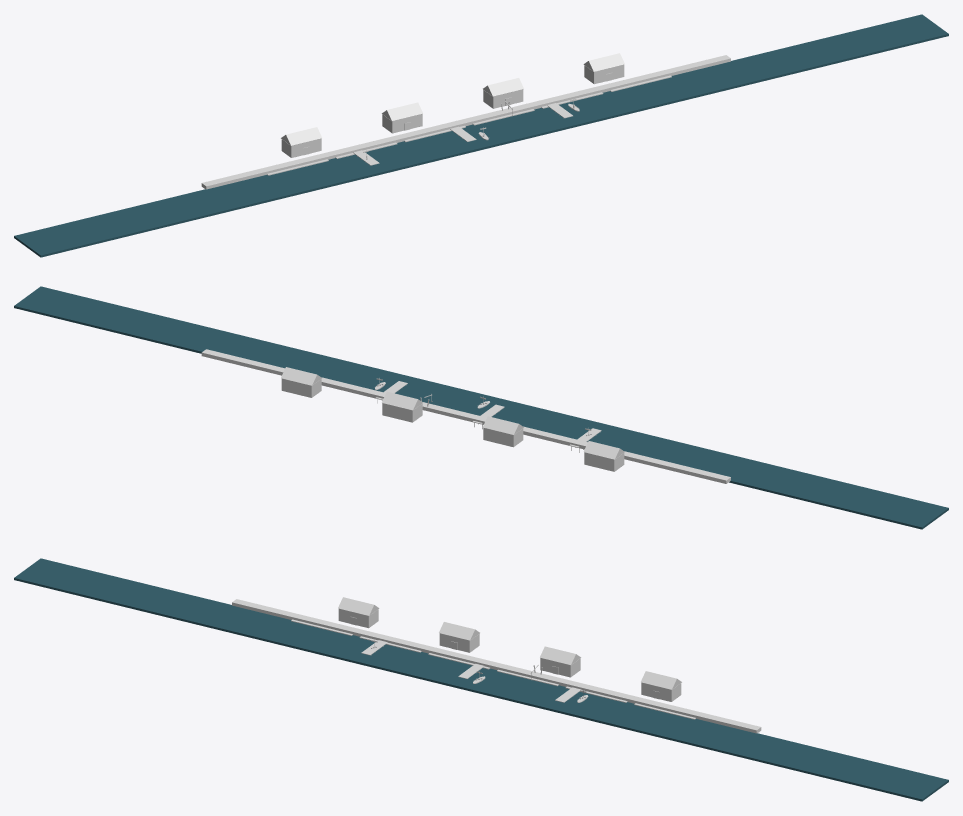
File: ars_harbour.fbx
3 views of the same model, one above another, from view 1: azimuth 30°, elevation 25°; view 2: azimuth 150°, elevation 25°; view 3: azimuth 330°, elevation 25° (orthographic).
Parts seen in each view (by area): view 1: ars_harbour; view 2: ars_harbour; view 3: ars_harbour.
Part boxes in pixels (x1,y1,x2,y2): ars_harbour: [14, 14, 948, 257]; ars_harbour: [14, 286, 948, 529]; ars_harbour: [14, 558, 948, 801].
Bounding box in the file's own units: 90000 × 2419 × 8095.
